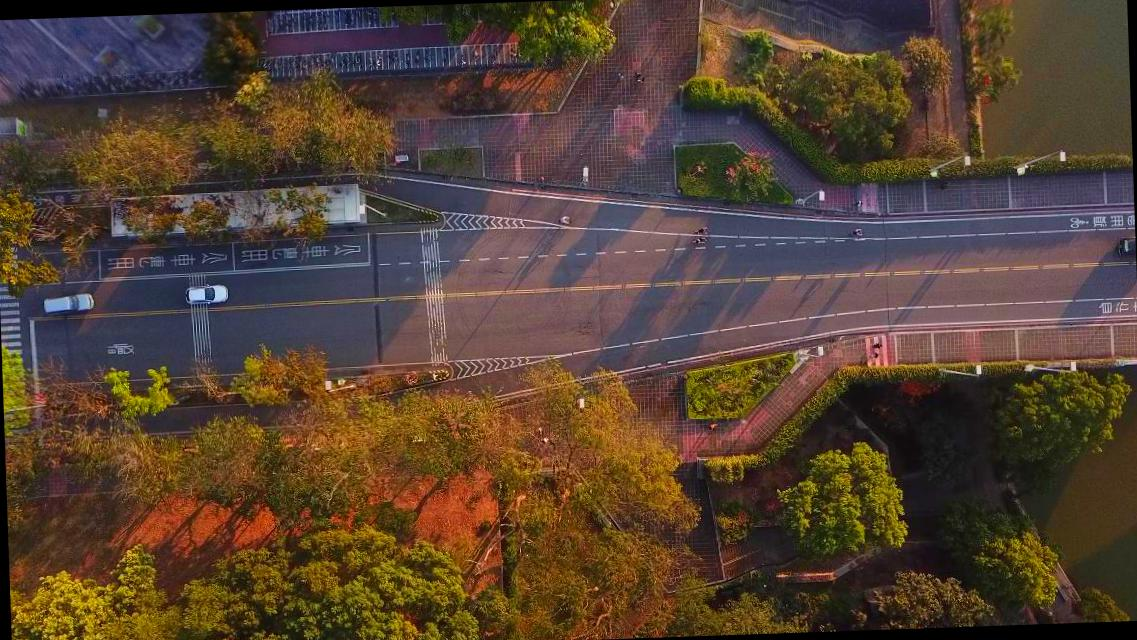vehicle: (42, 292, 94, 314), (184, 283, 228, 305)
